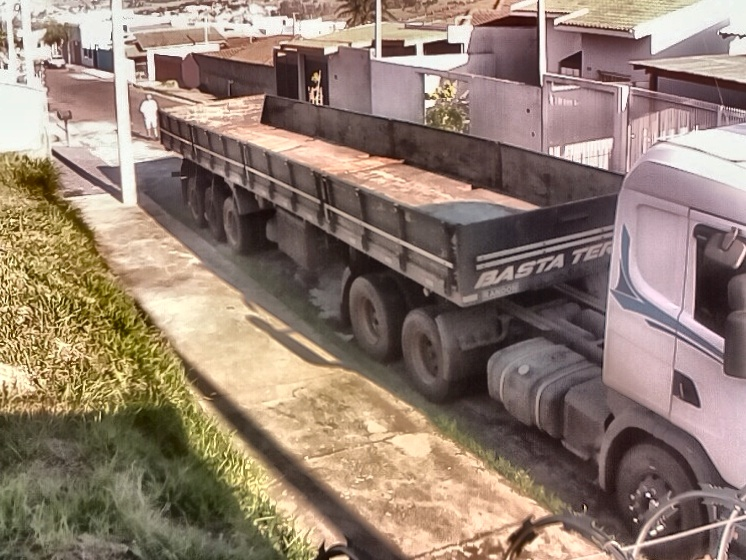person: (136, 91, 167, 143)
